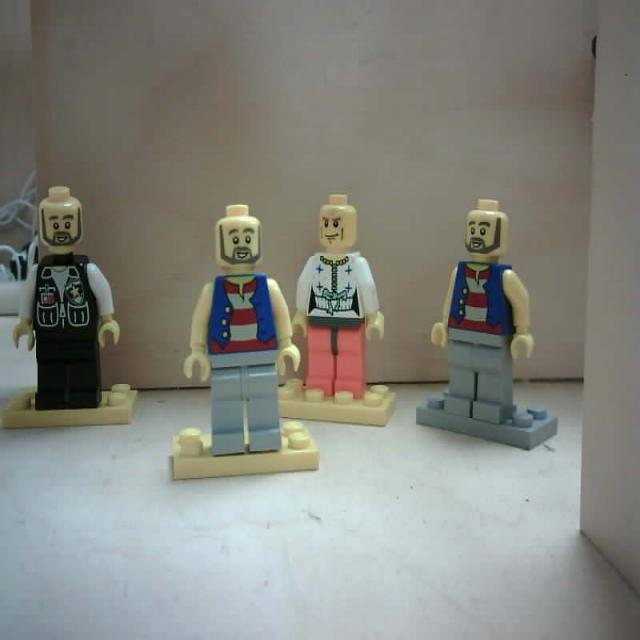Lego-People: (170, 202, 300, 465), (9, 186, 121, 422), (428, 193, 536, 431), (292, 197, 388, 407)
